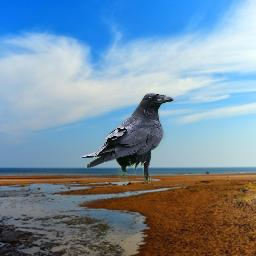Crow: (80, 93, 174, 184)
